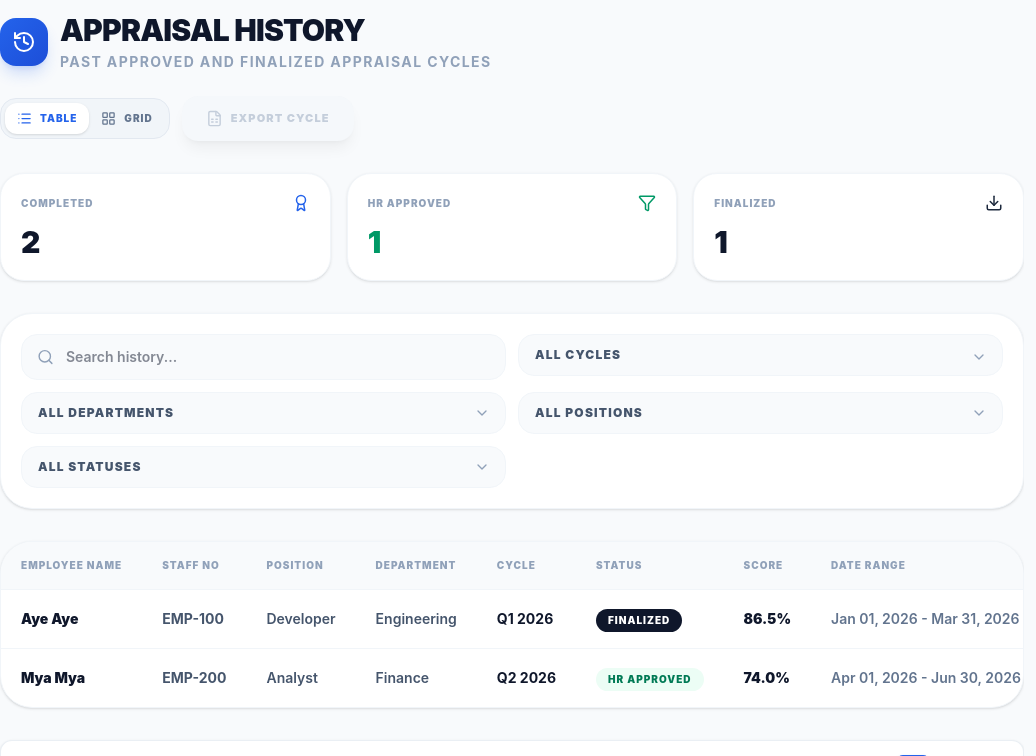
Scenario: AppraisalHistoryPage › recalculates top stats from filtered employee rows
The width and height of the screenshot is (1036, 756).
Expected: the text "Aye Aye" is shown, [1,590,142,648]
Expected: the text "Completed" shows "2", [21,224,40,260]
Select "Finalized" in the 4th dropdown named "Status" at (264, 467), box [21,446,506,488]
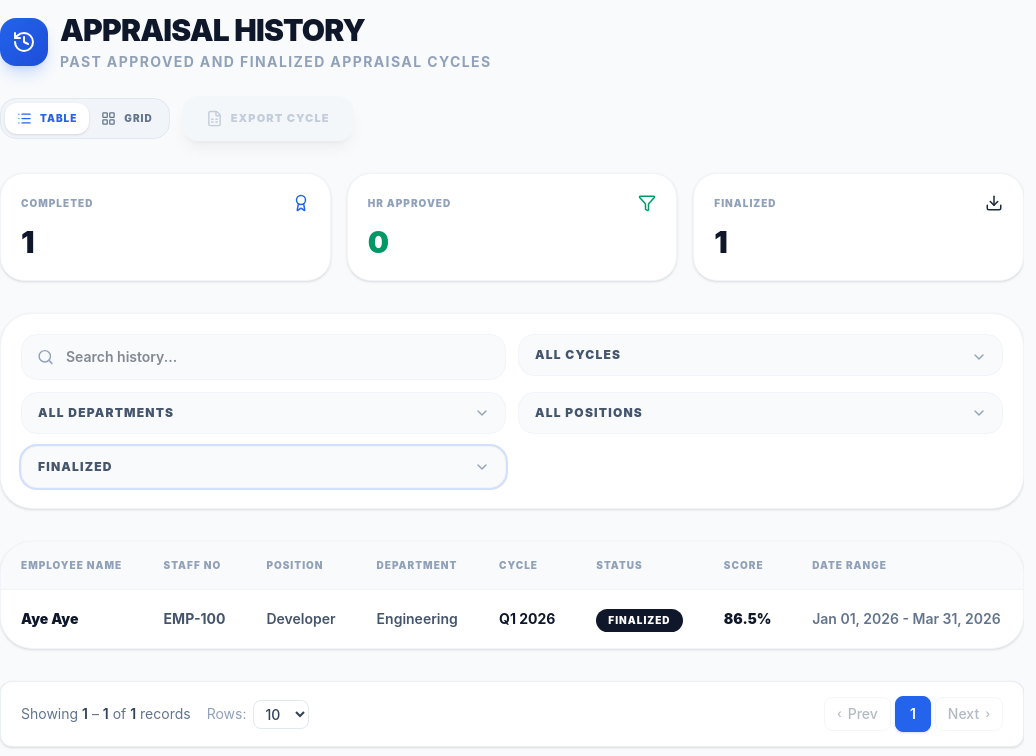
Expected: the text "Finalized" shows "1", [714,224,728,260]
Expected: the text "Completed" shows "1", [21,224,35,260]
Expected: the text "HR Approved" shows "0", [368,224,389,260]
